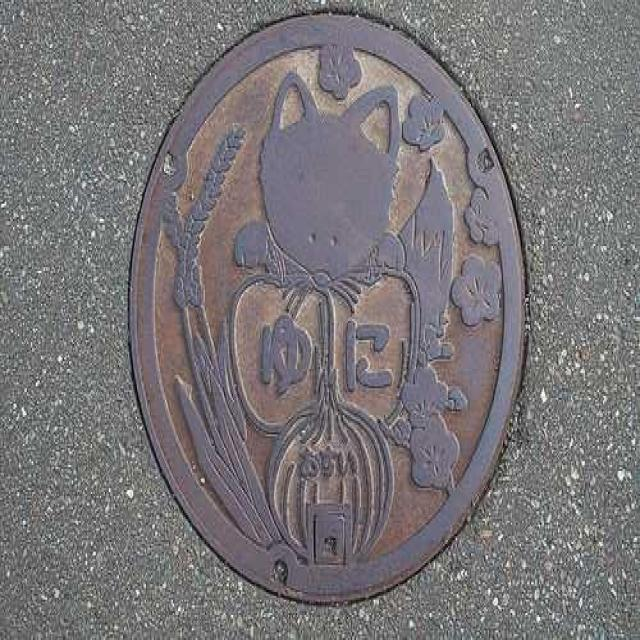manhole: (125, 13, 527, 609)
